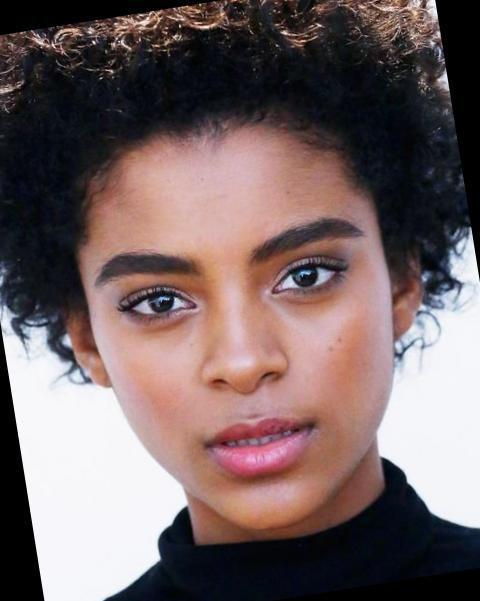Sober: (80, 163, 378, 501)
